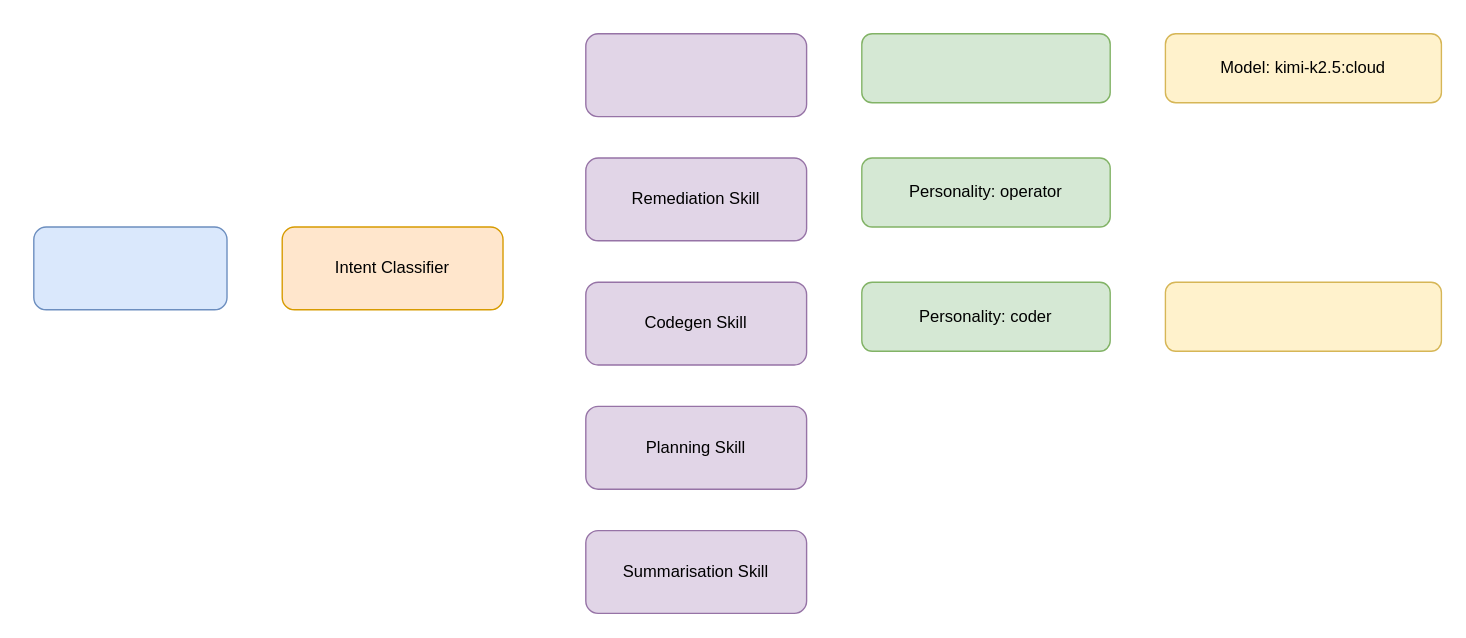
This 1466x638 diagram has some shape labels left out. Each missing label, with the box of its shape:
Diagnostics Skill: (584, 32, 807, 117)
Model: deepseek-r1: (1164, 281, 1441, 351)
Personality: analyst: (860, 32, 1110, 103)
User Prompt: (32, 226, 227, 310)
